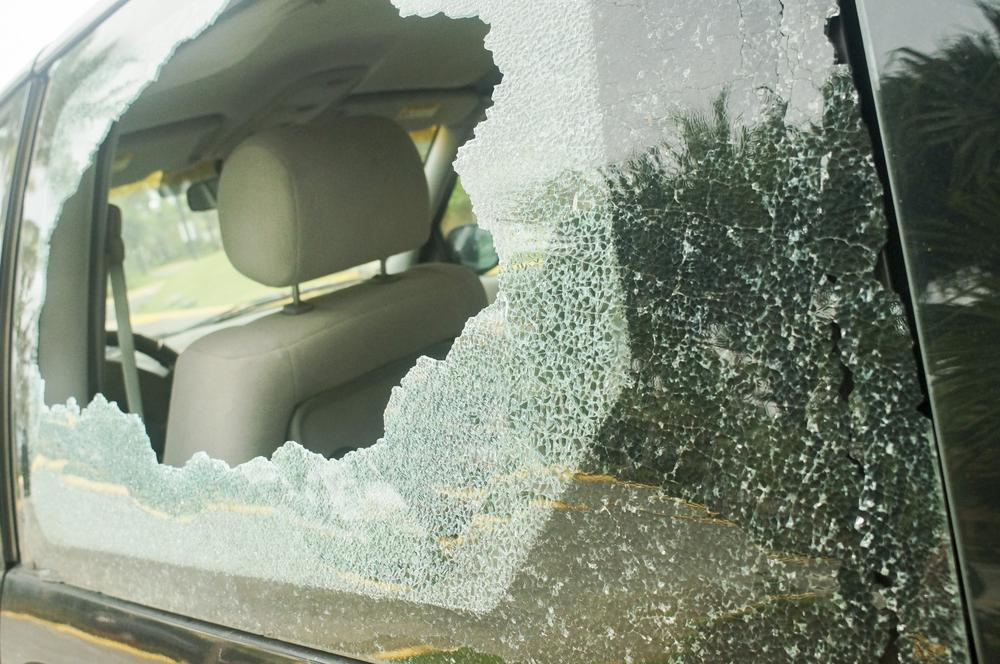glass shatter: (9, 0, 973, 664)
